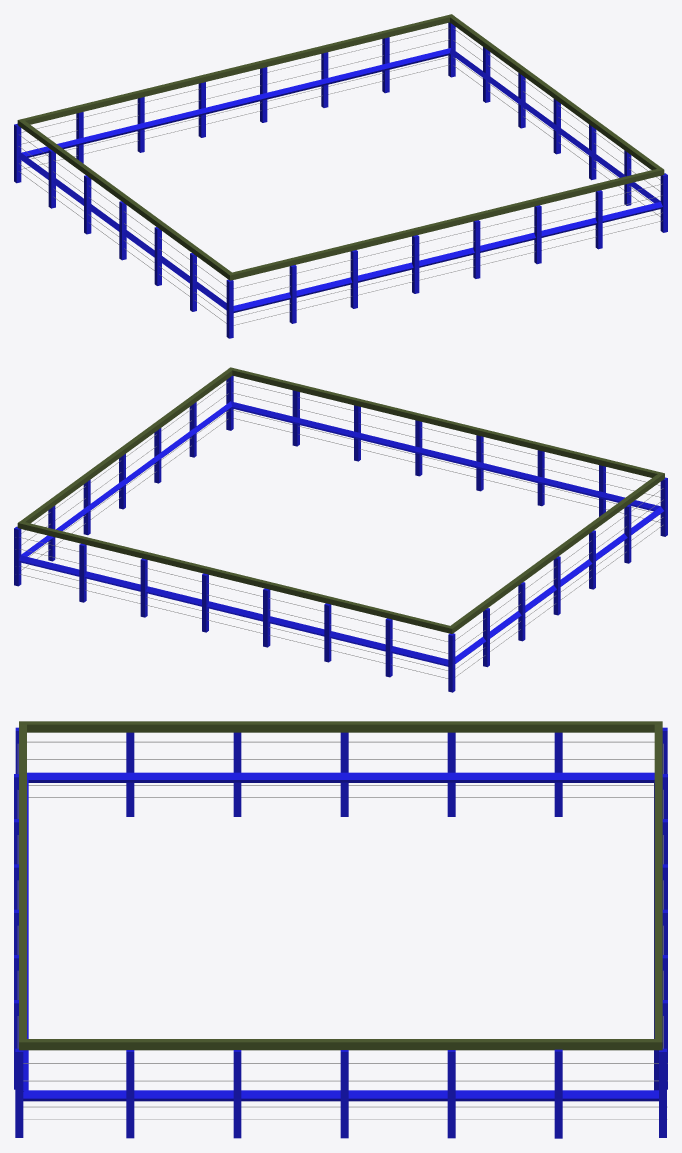
Rendered from Intro Railing.FBX.
3 views of the same model, one above another, from view 1: azimuth 30°, elevation 25°; view 2: azimuth 150°, elevation 25°; view 3: azimuth 270°, elevation 25° (orthographic). The views are drawn at different scales.
Visible parts, largest first — view 1: Box031, Box032, Box035, Box036, Box034, Box033, Box037, Box038; view 2: Box032, Box031, Box036, Box035, Box034, Box033, Box038, Box037; view 3: Box034, Box033, Box037, Box038, Box032, Box031, Cylinder018, Cylinder019, Cylinder021, Box026, Box018, Box027 (+10 smaller).
Part boxes in pixels (x1=…): Box031: x1=227, y1=167, x2=664, y2=280; Box032: x1=17, y1=14, x2=453, y2=126; Box035: x1=233, y1=201, x2=662, y2=312; Box036: x1=21, y1=48, x2=450, y2=157; Box034: x1=20, y1=121, x2=231, y2=278; Box033: x1=450, y1=16, x2=661, y2=169; Box037: x1=450, y1=48, x2=660, y2=202; Box038: x1=18, y1=153, x2=226, y2=310; Box032: x1=17, y1=521, x2=454, y2=633; Box031: x1=228, y1=367, x2=664, y2=480; Box036: x1=19, y1=555, x2=448, y2=666; Box035: x1=231, y1=401, x2=660, y2=511; Box034: x1=450, y1=474, x2=662, y2=631; Box033: x1=21, y1=369, x2=232, y2=523; Box038: x1=455, y1=506, x2=663, y2=663; Box037: x1=21, y1=401, x2=231, y2=556; Box034: x1=27, y1=721, x2=654, y2=732; Box033: x1=27, y1=1039, x2=654, y2=1050; Box037: x1=23, y1=1090, x2=658, y2=1101; Box038: x1=27, y1=772, x2=654, y2=782; Box032: x1=654, y1=721, x2=662, y2=1050; Box031: x1=19, y1=721, x2=26, y2=1050; Cylinder018: x1=23, y1=1080, x2=667, y2=1081; Cylinder019: x1=23, y1=1106, x2=667, y2=1107; Cylinder021: x1=27, y1=741, x2=654, y2=742; Box026: x1=554, y1=1049, x2=562, y2=1138; Box018: x1=15, y1=1048, x2=23, y2=1137; Box027: x1=447, y1=1050, x2=455, y2=1138.
Size of the model in its own units: 208 by 28.2 by 177.
